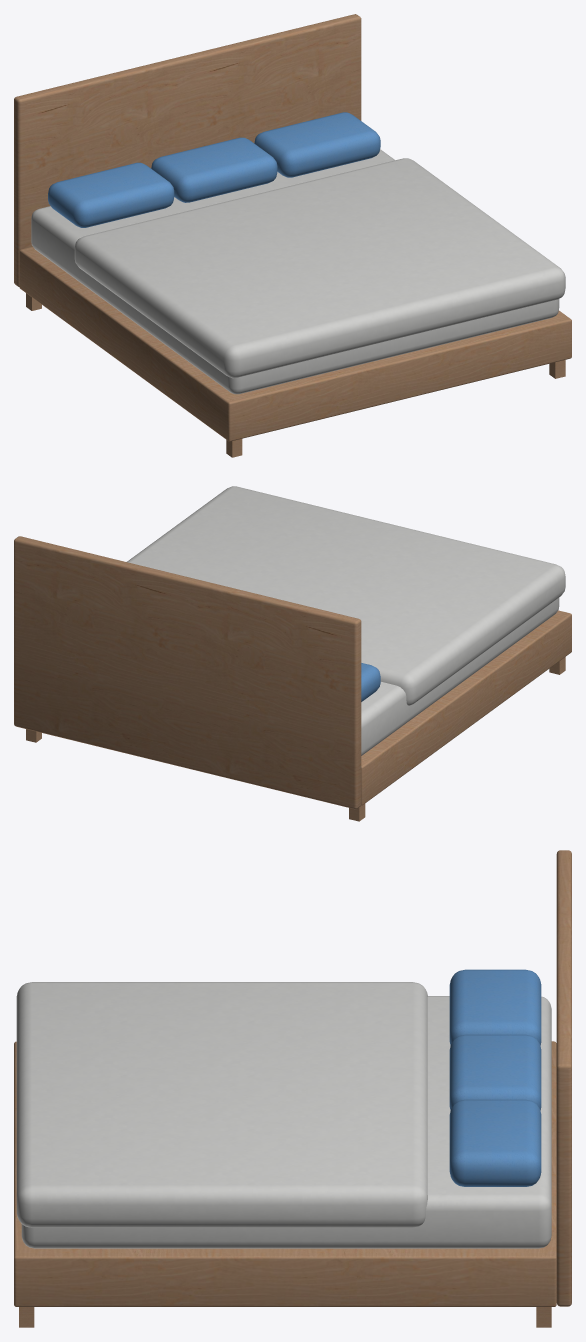
Rendered from bed_king.glb.
3 views of the same model, one above another, from view 1: azimuth 30°, elevation 25°; view 2: azimuth 150°, elevation 25°; view 3: azimuth 270°, elevation 25° (orthographic). The views are drawn at different scales.
Parts seen in each view (by area): view 1: bed_king; view 2: bed_king; view 3: bed_king.
Part boxes in pixels (x1,y1,x2,y2): bed_king: (14, 14, 571, 457); bed_king: (14, 486, 571, 821); bed_king: (14, 850, 571, 1327).
Size of the model in its own units: 2.01 by 1.15 by 2.19.
3 materials, 3 textured.
